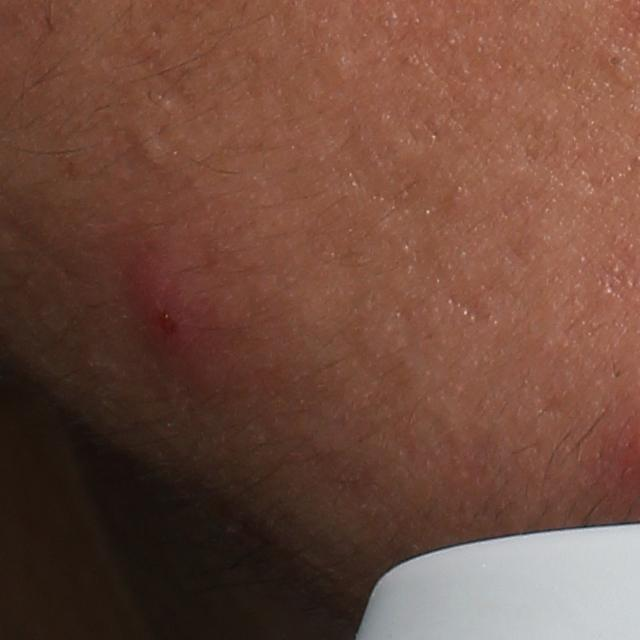comedo: (130, 121, 173, 171), (601, 41, 638, 86)
